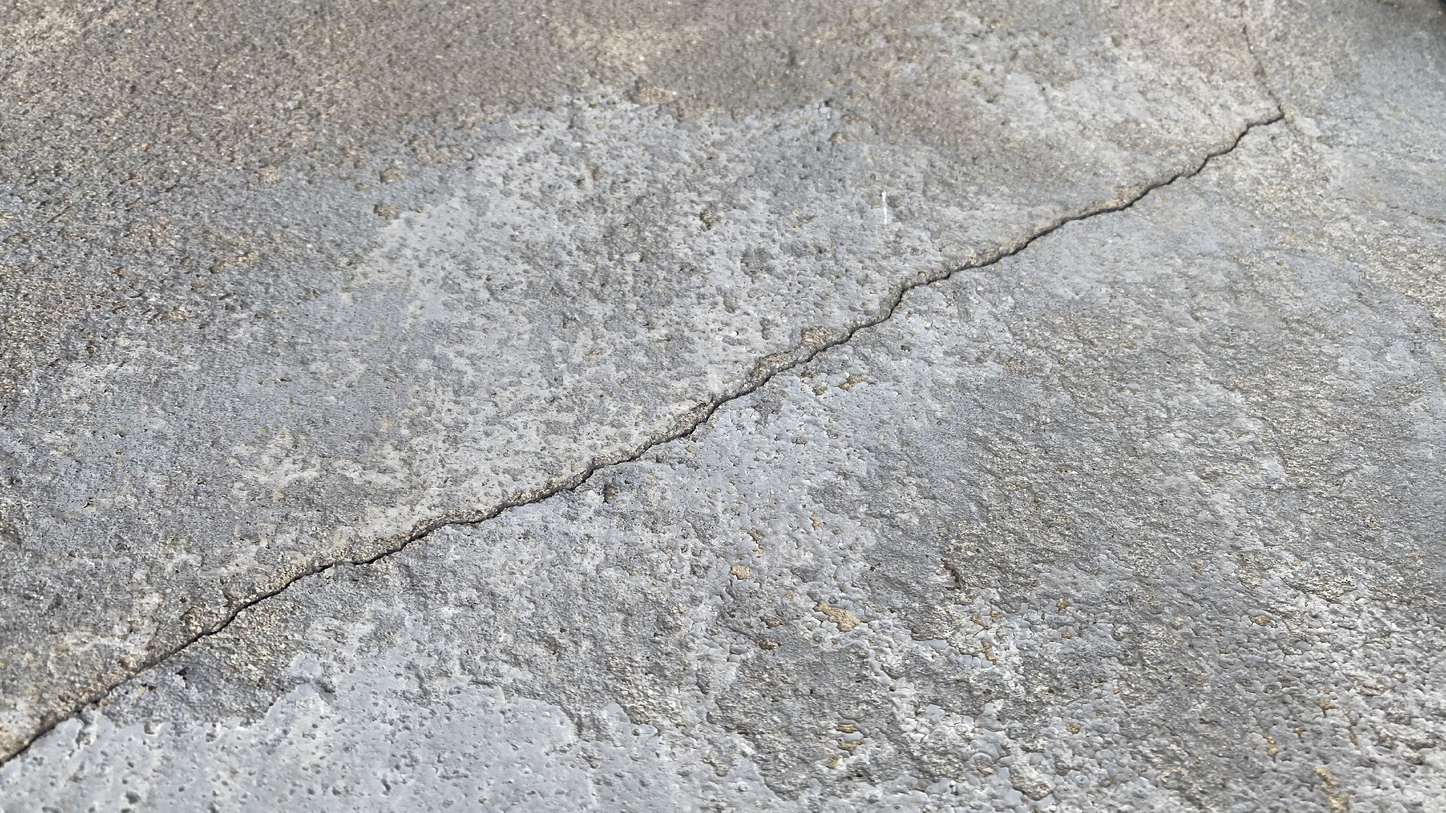crack: (3, 113, 1280, 768)
